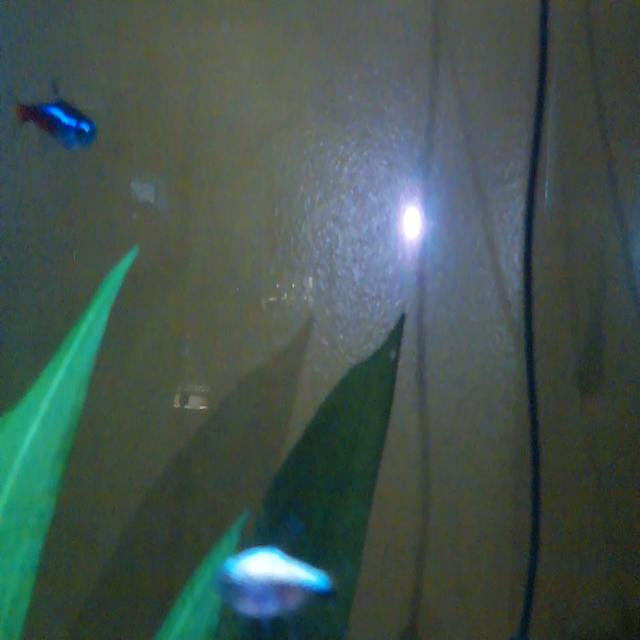fish: (209, 546, 339, 624), (13, 89, 98, 155)
